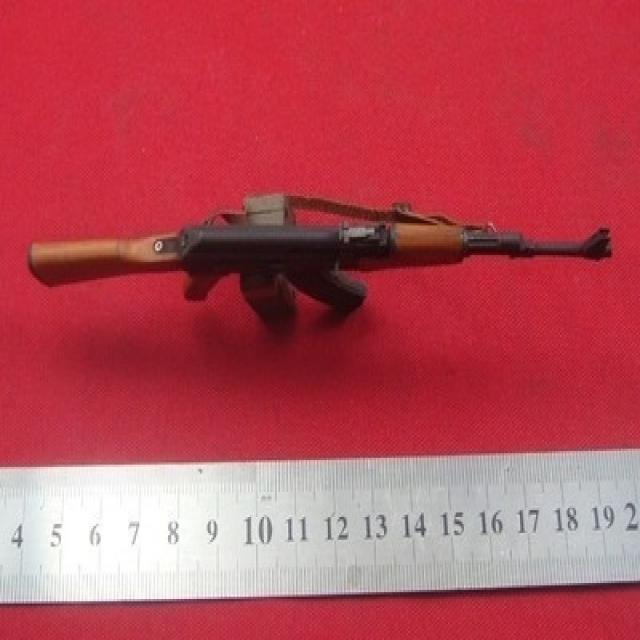ak: (25, 180, 618, 350)
